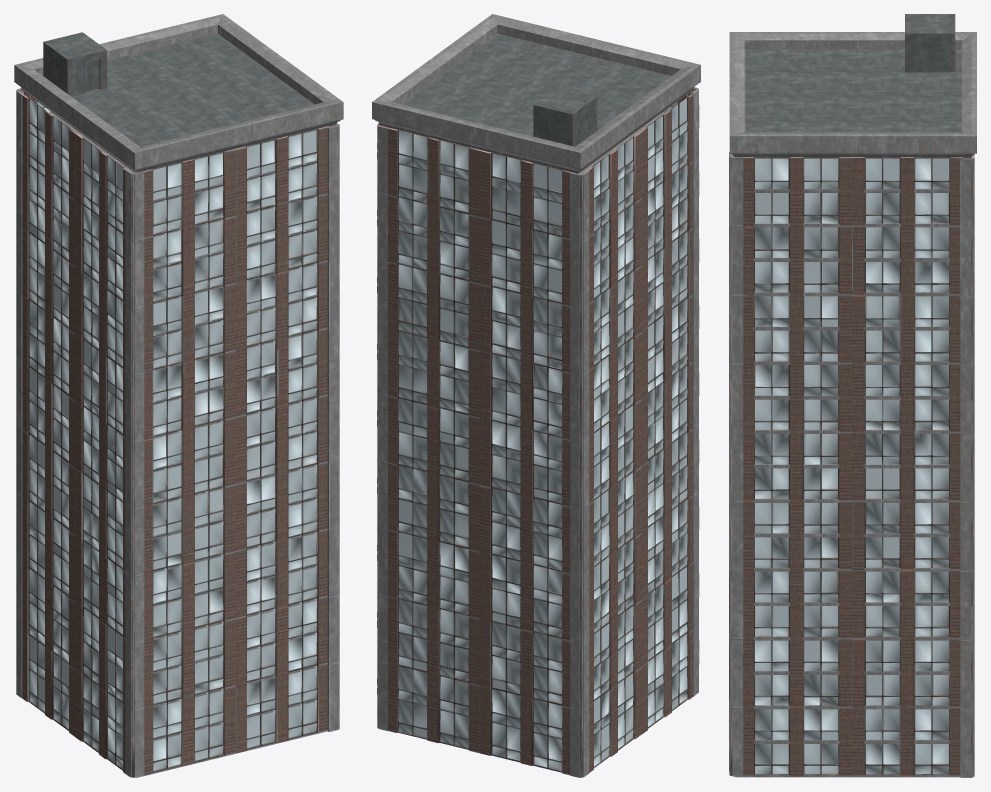
File: building-medium-02.glb
The picture shows the model from 3 angles, left to right: view 1: azimuth 30°, elevation 25°; view 2: azimuth 150°, elevation 25°; view 3: azimuth 270°, elevation 25°; orthographic projection. The views are drawn at different scales.
Parts seen in each view (by area): view 1: Building-Medium-02_Bake1_PBR; view 2: Building-Medium-02_Bake1_PBR; view 3: Building-Medium-02_Bake1_PBR.
Boxes of the visible parts, x1,y1,x2,y2 form: Building-Medium-02_Bake1_PBR: (14, 14, 343, 777); Building-Medium-02_Bake1_PBR: (372, 14, 700, 777); Building-Medium-02_Bake1_PBR: (729, 14, 976, 777).
Bounding box in the file's own units: 17.01 × 50.64 × 16.96.
1 material, 1 textured.
